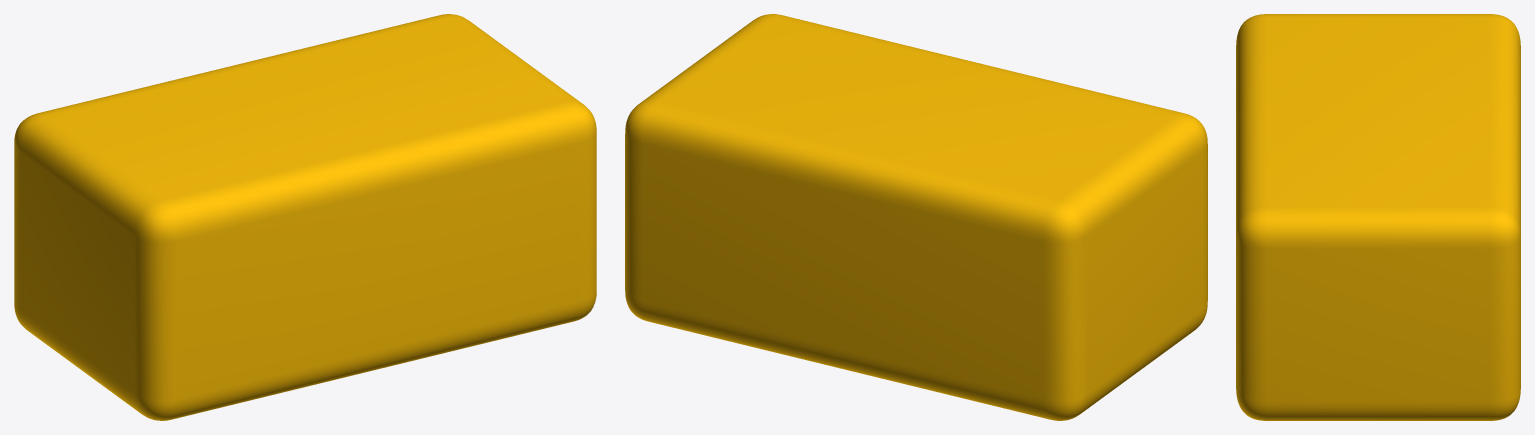
The model's file is cheese_block.FBX.
3 renders of one model, left to right at view 1: azimuth 30°, elevation 25°; view 2: azimuth 150°, elevation 25°; view 3: azimuth 270°, elevation 25°, orthographic. The views are drawn at different scales.
Parts seen in each view (by area): view 1: Box001; view 2: Box001; view 3: Box001.
Part boxes in pixels (box(x1,y1,x2,y2)): Box001: box(14, 14, 596, 420); Box001: box(625, 14, 1207, 420); Box001: box(1236, 14, 1520, 420).
Bounding box in the file's own units: 6.46 × 2.93 × 3.61.
